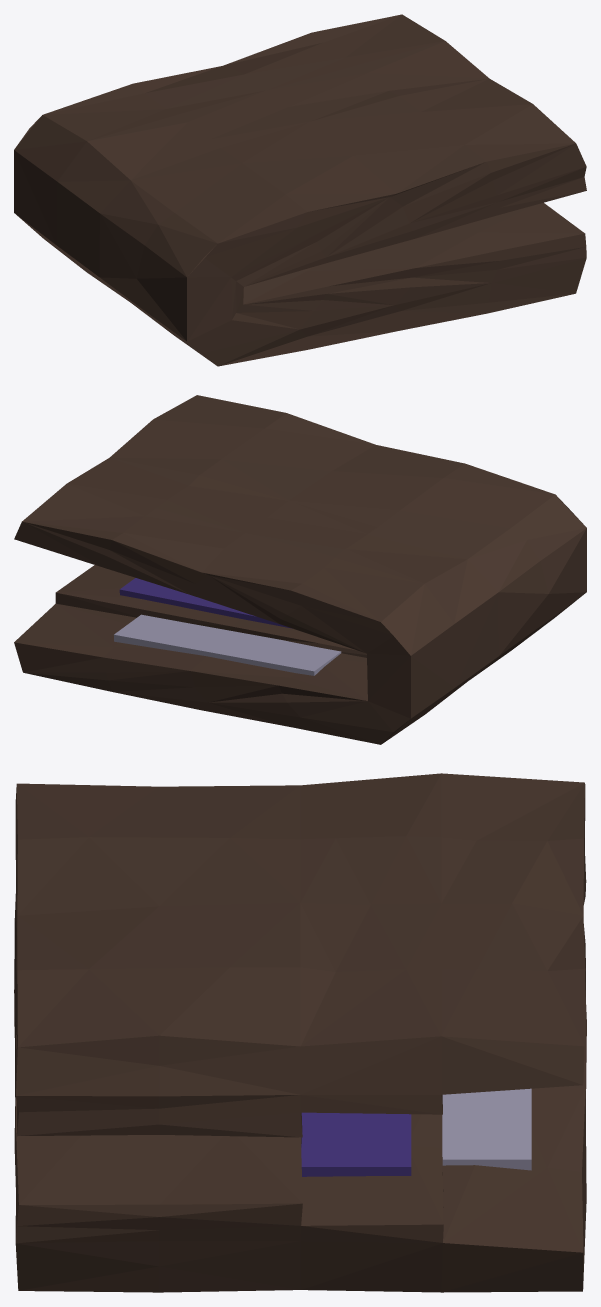
File: item_wallet.fbx
The picture shows the model from 3 angles, top to bottom: view 1: azimuth 30°, elevation 25°; view 2: azimuth 150°, elevation 25°; view 3: azimuth 270°, elevation 25°; orthographic projection. The views are drawn at different scales.
Visible parts, largest first — view 1: item_wallet; view 2: item_wallet; view 3: item_wallet.
Part boxes in pixels (x1,y1,x2,y2): item_wallet: (14,14,586,366); item_wallet: (14,395,586,744); item_wallet: (14,773,586,1292).
Size of the model in its own units: 10.44 by 3.88 by 7.84.
